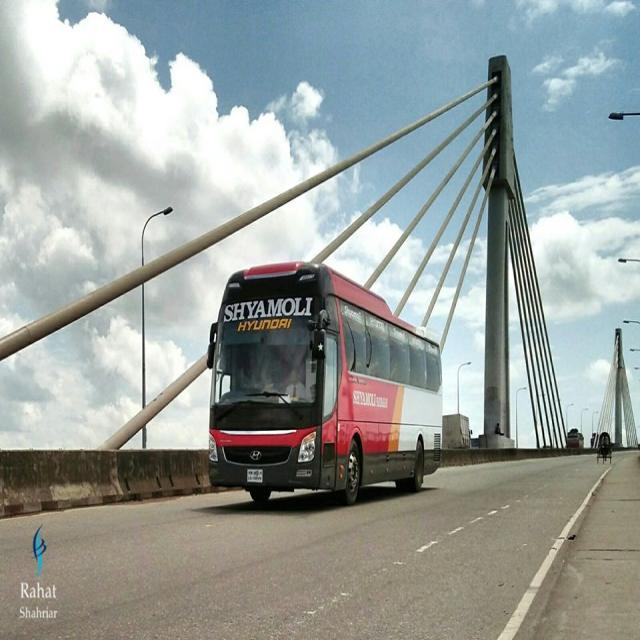bus: (204, 260, 445, 508)
